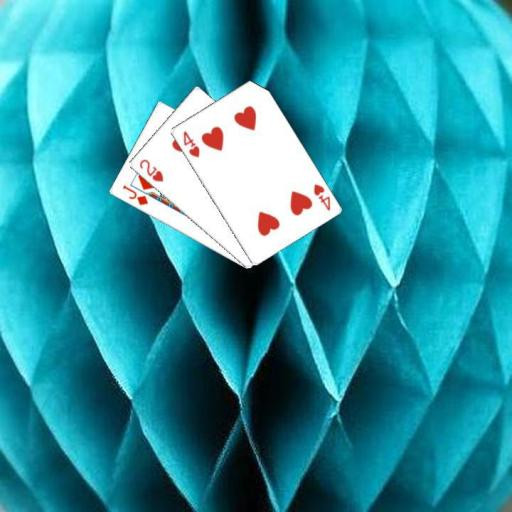2H: (136, 156, 164, 183)
4H: (179, 127, 201, 159), (310, 181, 331, 212)
JD: (119, 182, 149, 207)
